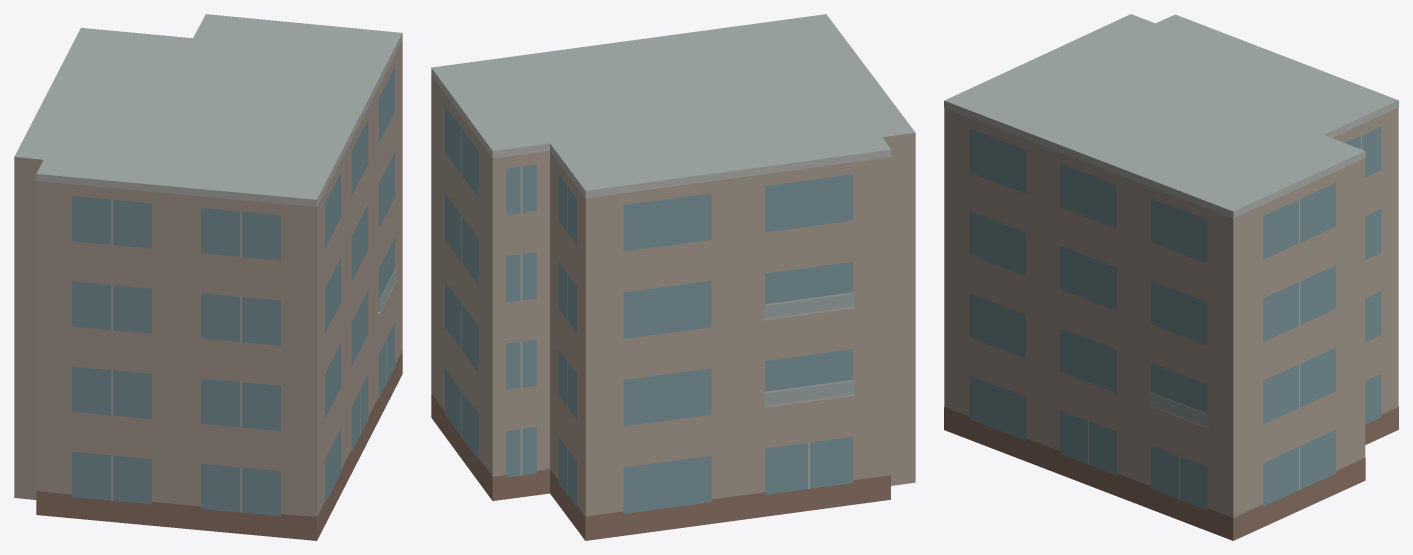
Rendered from survey-upis-32686926.glb.
The picture shows the model from 3 angles, left to right: view 1: azimuth 30°, elevation 25°; view 2: azimuth 150°, elevation 25°; view 3: azimuth 270°, elevation 25°; orthographic projection. The views are drawn at different scales.
Visible parts, largest first — view 1: survey-upis-32686926.tmp; view 2: survey-upis-32686926.tmp; view 3: survey-upis-32686926.tmp.
Boxes of the visible parts, <box> form: survey-upis-32686926.tmp: <box>14,14,402,540</box>; survey-upis-32686926.tmp: <box>431,14,915,540</box>; survey-upis-32686926.tmp: <box>944,14,1398,540</box>.
Size of the model in its own units: 14.79 by 11.5 by 14.39.
